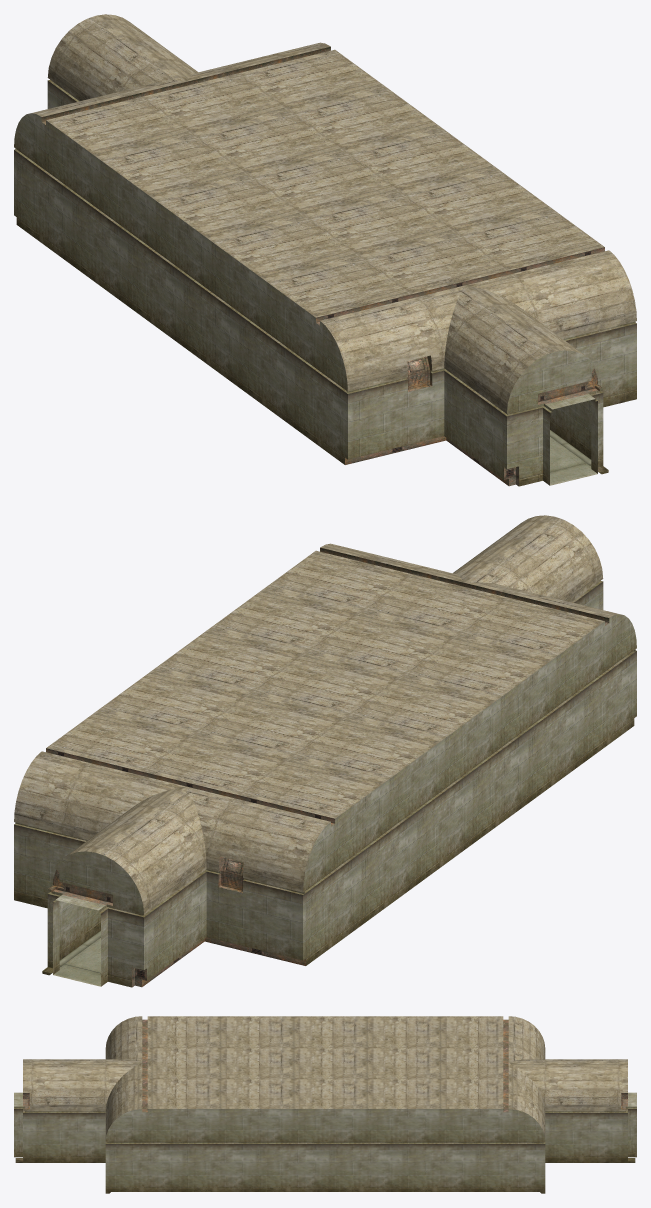
Rendered from poi_all_bunker_allum_mine_r7_smallroom7_mesh_r7.fbx.
The picture shows the model from 3 angles, top to bottom: view 1: azimuth 30°, elevation 25°; view 2: azimuth 150°, elevation 25°; view 3: azimuth 270°, elevation 25°; orthographic projection. The views are drawn at different scales.
Visible parts, largest first — view 1: mesh_node; view 2: mesh_node; view 3: mesh_node.
Boxes of the visible parts, x1,y1,x2,y2 form: mesh_node: (14,14,636,486); mesh_node: (14,515,636,987); mesh_node: (14,1016,636,1193).
Size of the model in its own units: 12 by 5.1 by 34.
